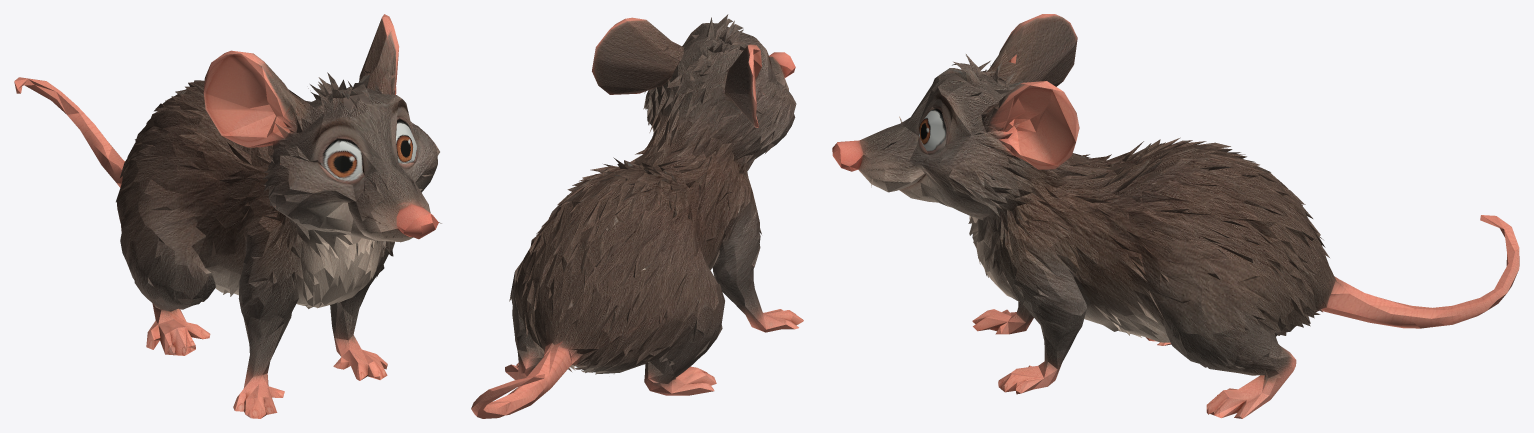
3 renders of one model, left to right at view 1: azimuth 30°, elevation 25°; view 2: azimuth 150°, elevation 25°; view 3: azimuth 270°, elevation 25°, orthographic. The views are drawn at different scales.
Visible parts, largest first — view 1: Mesh_0; view 2: Mesh_0; view 3: Mesh_0.
Part boxes in pixels (box(x1,y1,x2,y2)): Mesh_0: box(14, 14, 441, 418); Mesh_0: box(471, 14, 803, 418); Mesh_0: box(832, 14, 1519, 418).
Size of the model in its own units: 0.6544 by 0.9807 by 1.9.
Materials: 1 (1 with a texture image).
